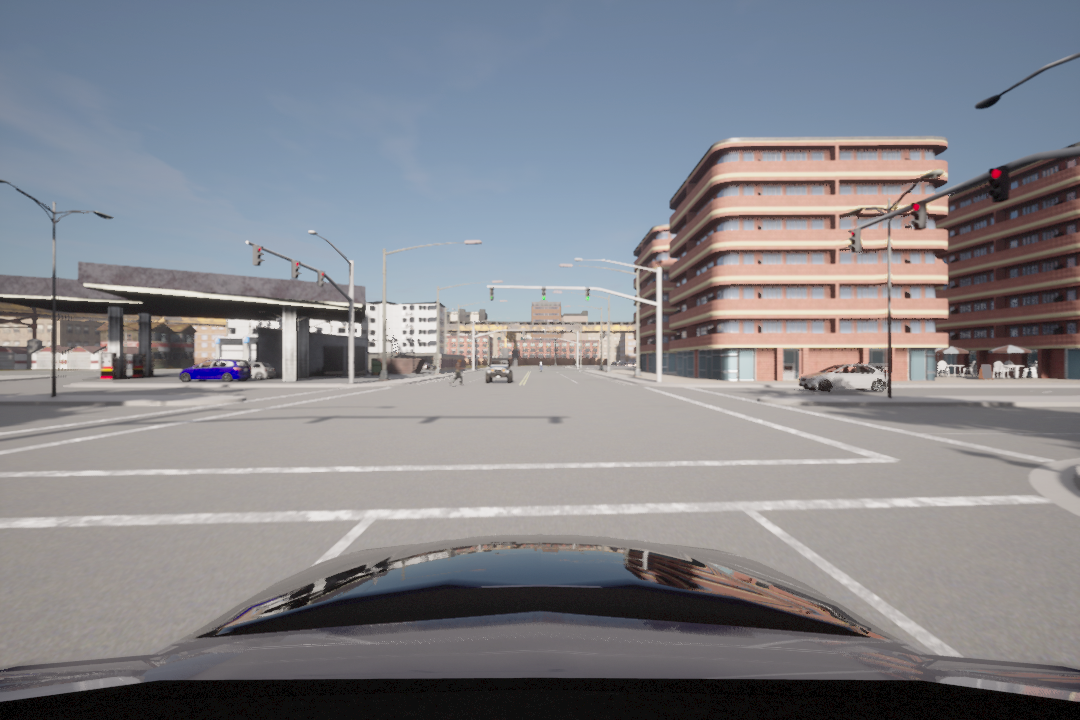TrafficLight: (987, 165, 1013, 204), (846, 227, 867, 258), (907, 199, 925, 230), (250, 244, 265, 268), (317, 269, 329, 292), (291, 257, 301, 282), (485, 284, 497, 302), (540, 282, 548, 302), (583, 286, 591, 302)
